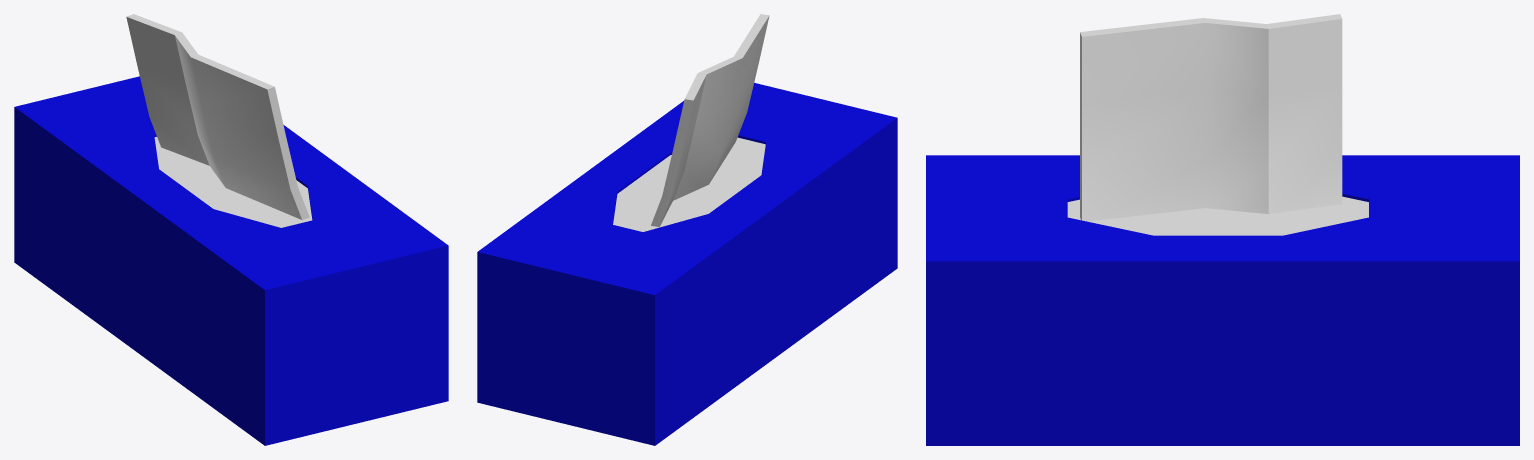
File: maya2sketchfab.fbx
3 views of the same model, side by side, from view 1: azimuth 30°, elevation 25°; view 2: azimuth 150°, elevation 25°; view 3: azimuth 270°, elevation 25° (orthographic). The views are drawn at different scales.
Parts seen in each view (by area): view 1: pCube2, pCube3; view 2: pCube2, pCube3; view 3: pCube2, pCube3.
Part boxes in pixels (x1=…): pCube2: x1=14, y1=76, x2=448, y2=445; pCube3: x1=126, y1=14, x2=309, y2=220; pCube2: x1=477, y1=83, x2=897, y2=445; pCube3: x1=651, y1=14, x2=769, y2=226; pCube2: x1=926, y1=155, x2=1519, y2=445; pCube3: x1=1080, y1=14, x2=1342, y2=221.
Bounding box in the file's own units: 1.34 × 2.04 × 3.17.
